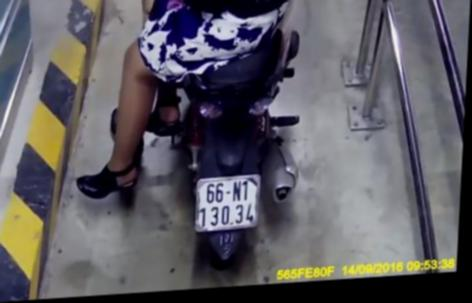License_Plate: (187, 166, 272, 237)
